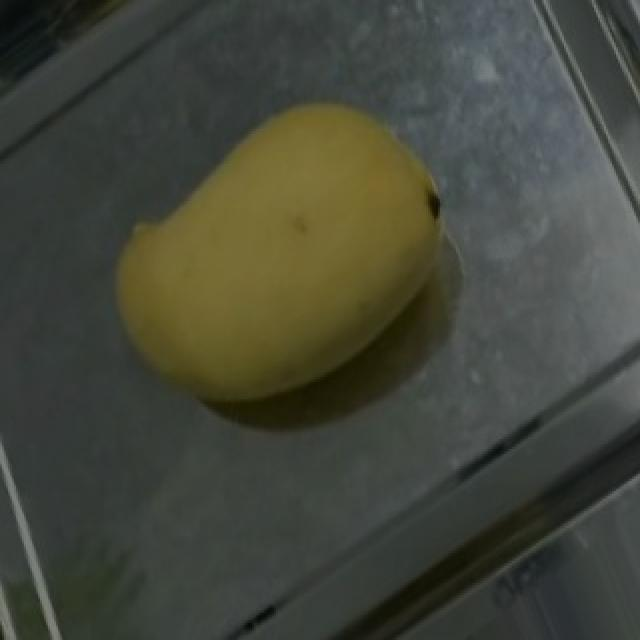fruit: (142, 45, 512, 424)
